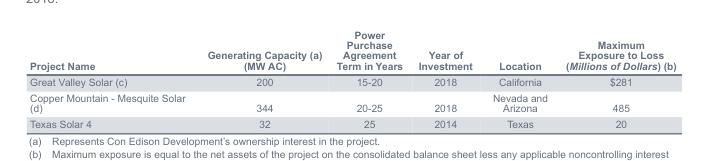table: (29, 28, 675, 129)
table column: (29, 28, 195, 129), (195, 28, 328, 129), (555, 28, 675, 129), (328, 28, 409, 129), (481, 28, 555, 129), (409, 28, 481, 129)
table column header: (29, 28, 675, 73)
table row: (29, 28, 675, 73), (29, 89, 675, 115), (29, 73, 675, 89), (29, 115, 675, 129)
